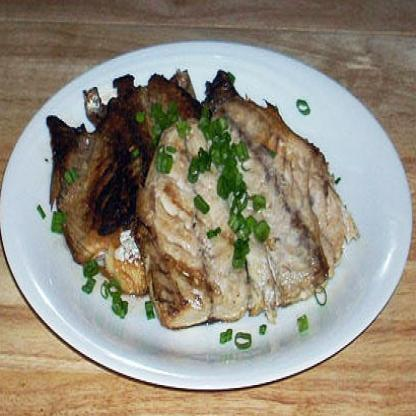Peixe: (38, 48, 356, 348)
